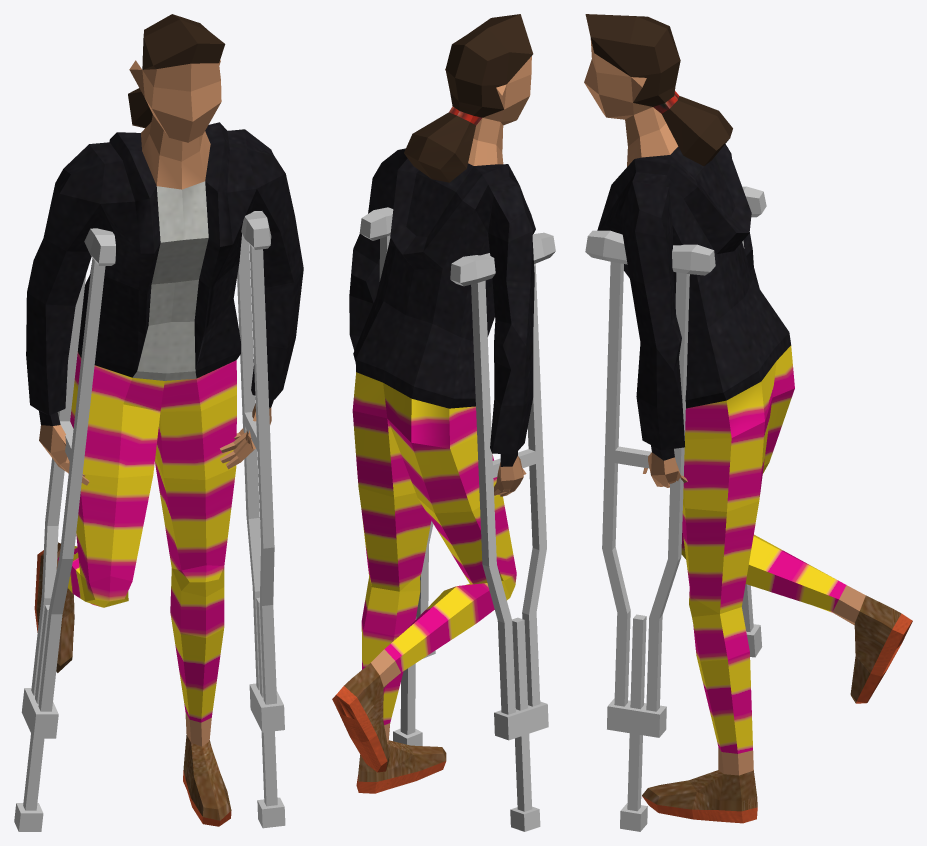
File: Disabled People6.fbx
3 views of the same model, side by side, from view 1: azimuth 30°, elevation 25°; view 2: azimuth 150°, elevation 25°; view 3: azimuth 270°, elevation 25° (orthographic). The views are drawn at different scales.
Parts seen in each view (by area): view 1: OfficeWomanB.007; view 2: OfficeWomanB.007; view 3: OfficeWomanB.007.
Part boxes in pixels (x1,y1,x2,y2): OfficeWomanB.007: (14,14,303,831); OfficeWomanB.007: (332,14,555,831); OfficeWomanB.007: (584,14,912,831).
Size of the model in its own units: 51.55 by 166 by 64.37.
